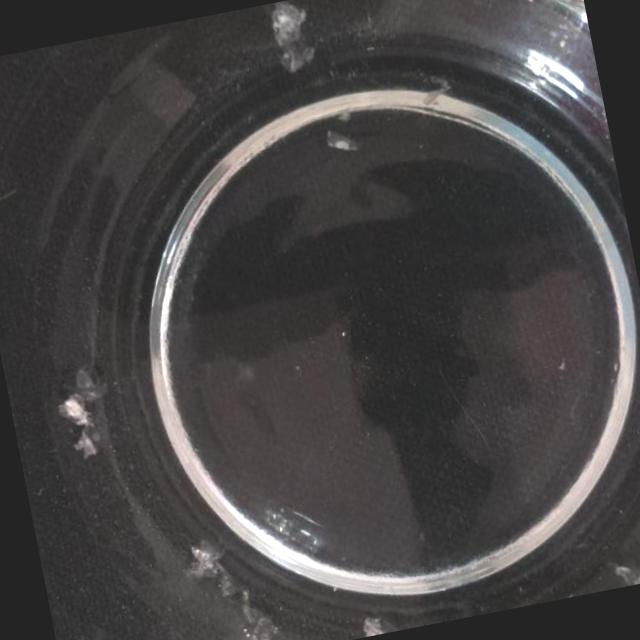fiber: (173, 525, 283, 640), (50, 357, 119, 470), (257, 0, 320, 76), (606, 526, 640, 588), (322, 125, 360, 158), (351, 612, 394, 639)
